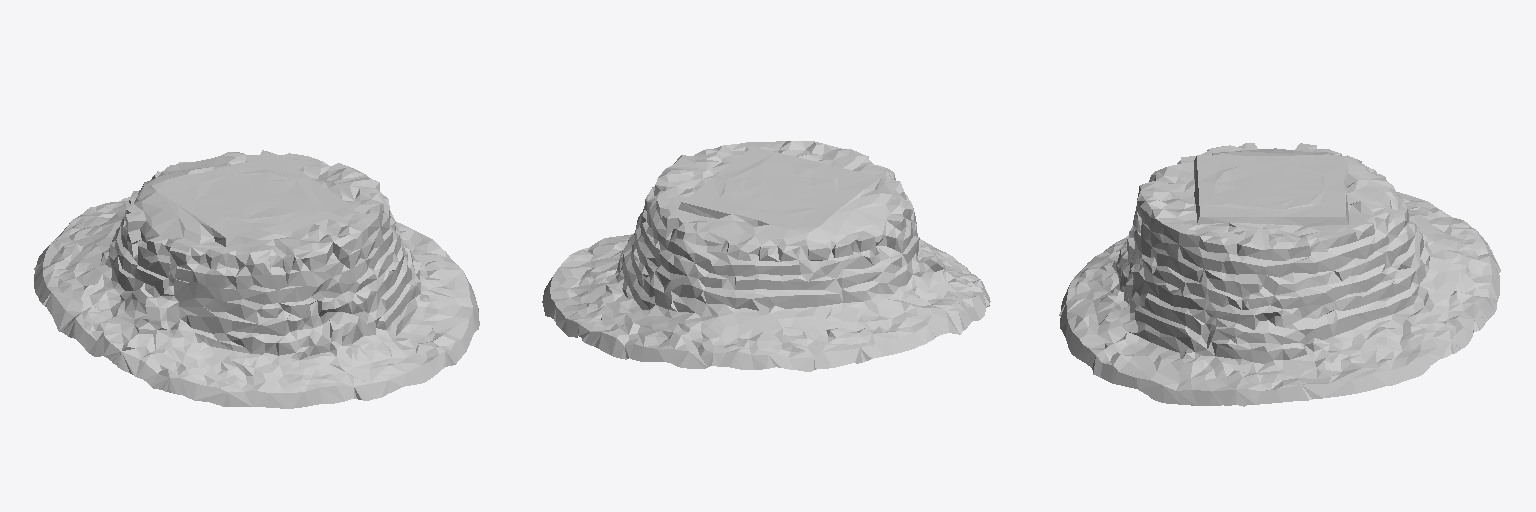
The model's file is sewer.obj.
The picture shows the model from 3 angles: view 1: azimuth 30°, elevation 25°; view 2: azimuth 150°, elevation 25°; view 3: azimuth 270°, elevation 25°; orthographic projection.
Visible parts, largest first — view 1: Sewer_with_bricks_LOW_POLY:Mesh; view 2: Sewer_with_bricks_LOW_POLY:Mesh; view 3: Sewer_with_bricks_LOW_POLY:Mesh.
Part boxes in pixels (x1,y1,x2,y2): Sewer_with_bricks_LOW_POLY:Mesh: (34,150,479,408); Sewer_with_bricks_LOW_POLY:Mesh: (542,141,990,371); Sewer_with_bricks_LOW_POLY:Mesh: (1059,143,1500,406).
Size of the model in its own units: 6.94 by 2.27 by 6.82.